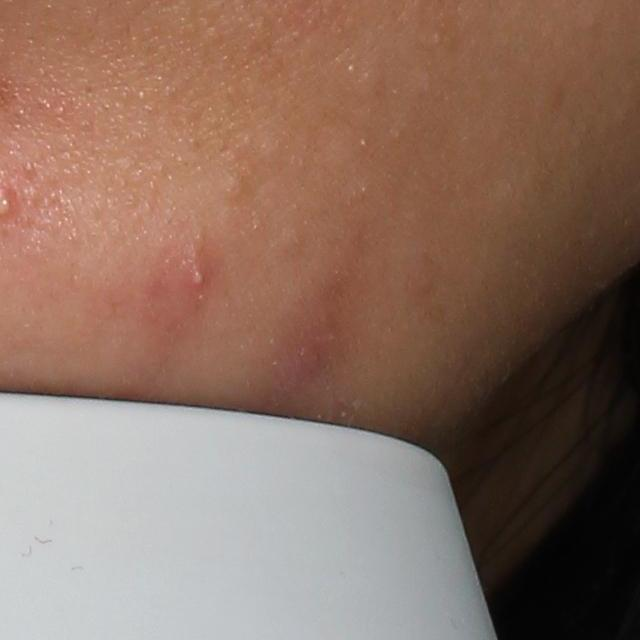pustule: (187, 263, 213, 292)
